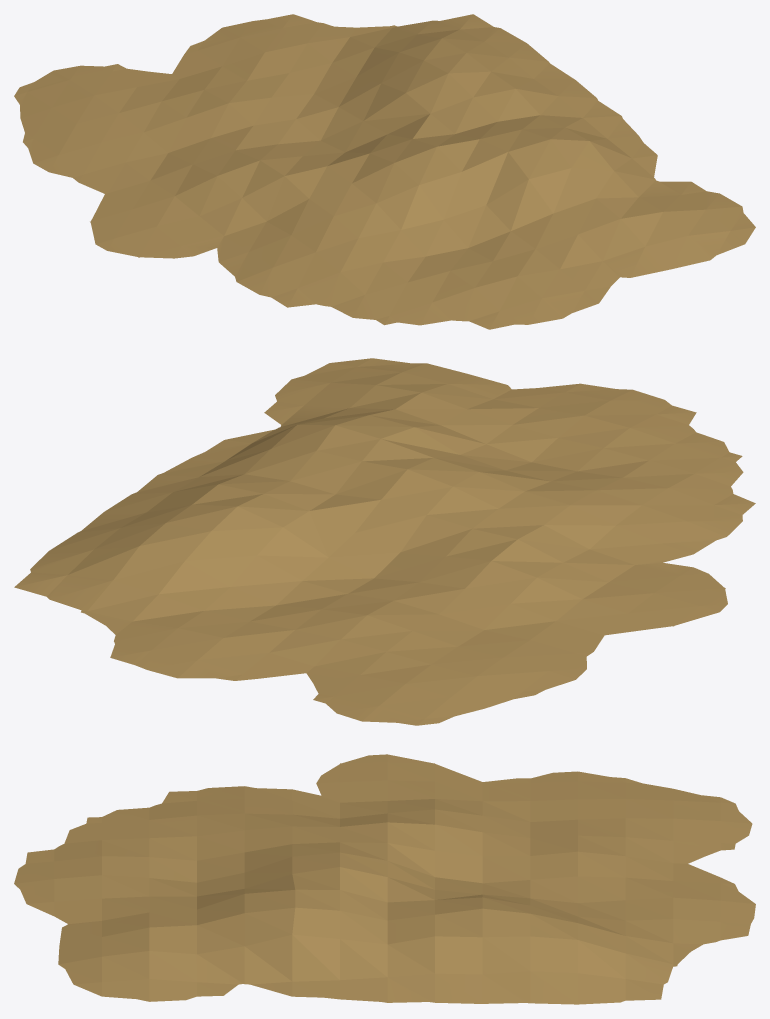
File: Terrain_Plane_Dirt_Uneven_01.fbx
3 renders of one model, top to bottom at view 1: azimuth 30°, elevation 25°; view 2: azimuth 150°, elevation 25°; view 3: azimuth 270°, elevation 25°, orthographic. The views are drawn at different scales.
Parts seen in each view (by area): view 1: Terrain_Plane_Dirt_Uneven_01; view 2: Terrain_Plane_Dirt_Uneven_01; view 3: Terrain_Plane_Dirt_Uneven_01.
Boxes of the visible parts, box(x1,y1,x2,y2) form: Terrain_Plane_Dirt_Uneven_01: box(14, 14, 755, 329); Terrain_Plane_Dirt_Uneven_01: box(14, 358, 755, 725); Terrain_Plane_Dirt_Uneven_01: box(14, 754, 755, 1004).
Bounding box in the file's own units: 11749 × 861 × 14727.
